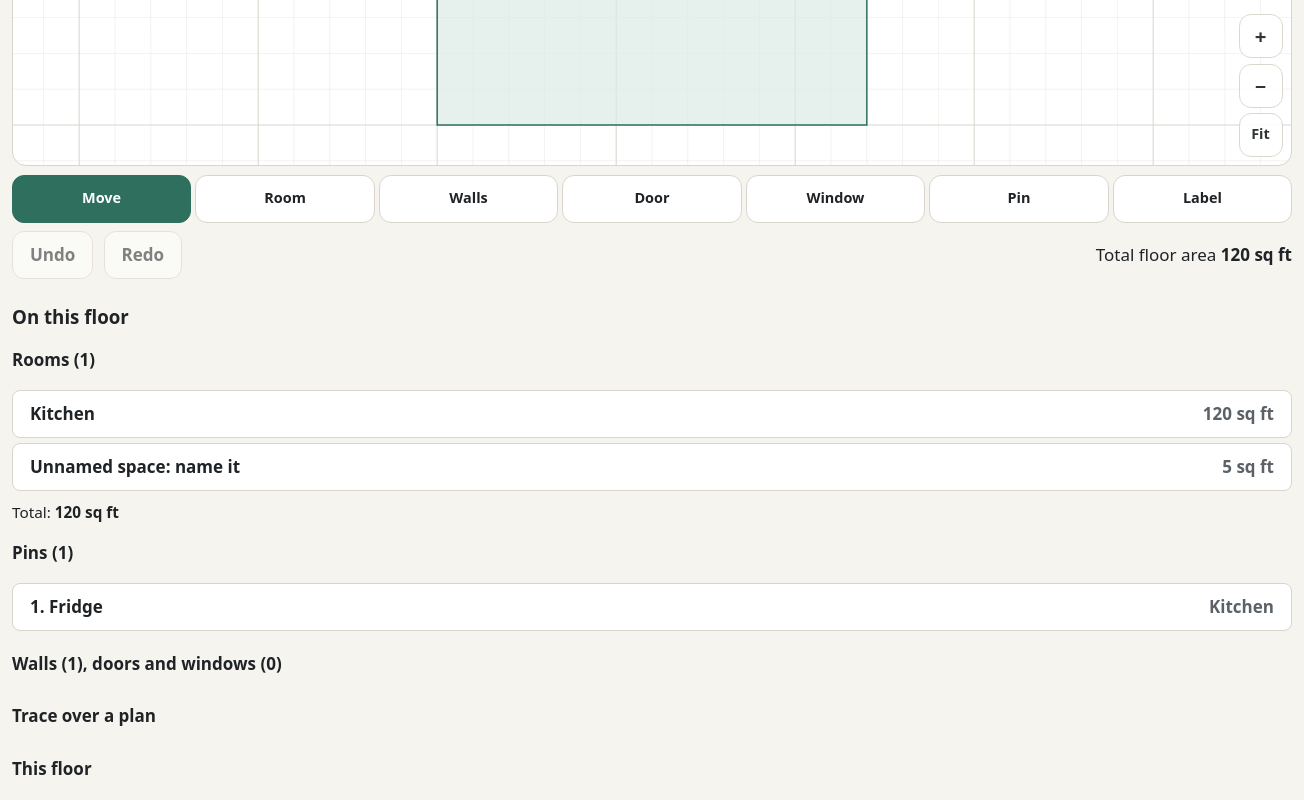
Test: Floor plans screen › offers existing rooms when naming a space
The image size is (1304, 800).
(page scrolled)
Step 1. Click the text "Unnamed space: name it" → (135, 467), box [30,455,240,480]
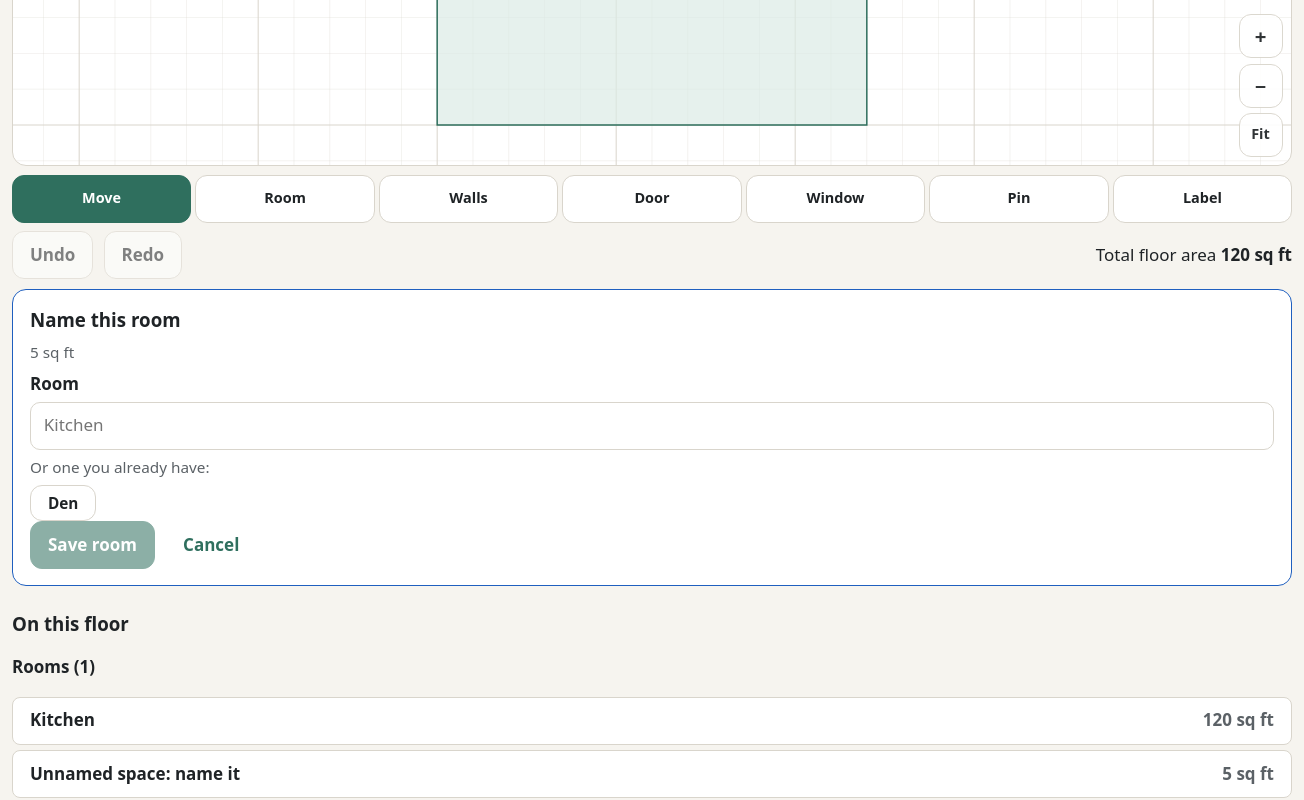
Expected: the form with test id "room-sheet" shows "Name this room", [30,307,181,332]
Expected: the button "Den" is shown, [30,485,96,521]
